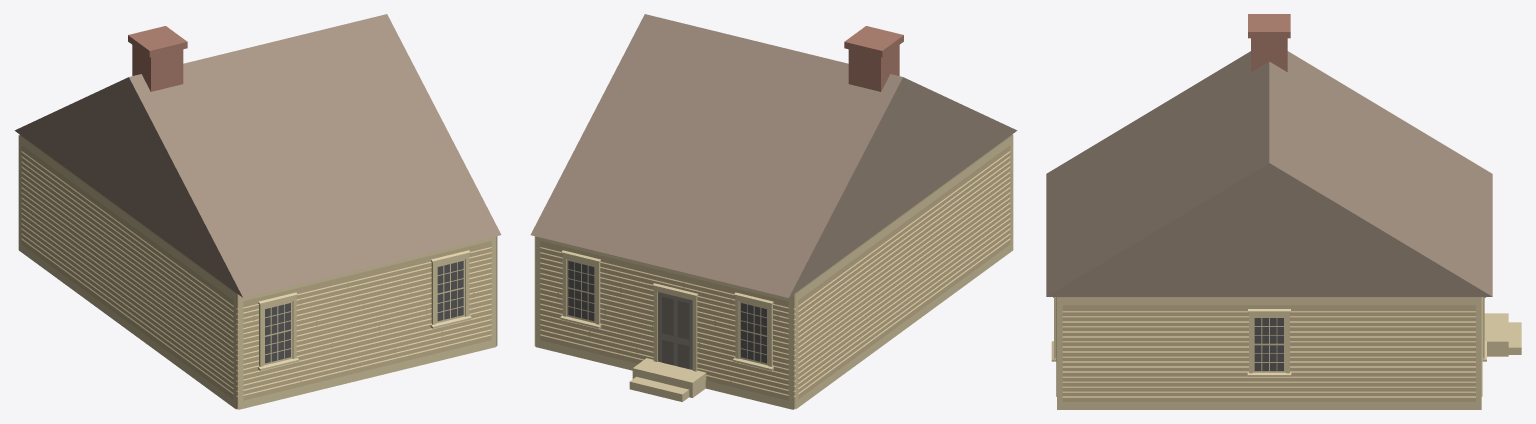
The model's file is recon_1835_north_d5_057__inferred_1835.glb.
The picture shows the model from 3 angles, left to right: view 1: azimuth 30°, elevation 25°; view 2: azimuth 150°, elevation 25°; view 3: azimuth 270°, elevation 25°; orthographic projection. The views are drawn at different scales.
Visible parts, largest first — view 1: recon_1835_north_d5_057__inferred_1835; view 2: recon_1835_north_d5_057__inferred_1835; view 3: recon_1835_north_d5_057__inferred_1835.
Boxes of the visible parts, bbox=[...] form: recon_1835_north_d5_057__inferred_1835: bbox=[14, 14, 501, 409]; recon_1835_north_d5_057__inferred_1835: bbox=[530, 14, 1017, 409]; recon_1835_north_d5_057__inferred_1835: bbox=[1046, 14, 1521, 409].
Bounding box in the file's own units: 6.84 × 7.03 × 10.93.
